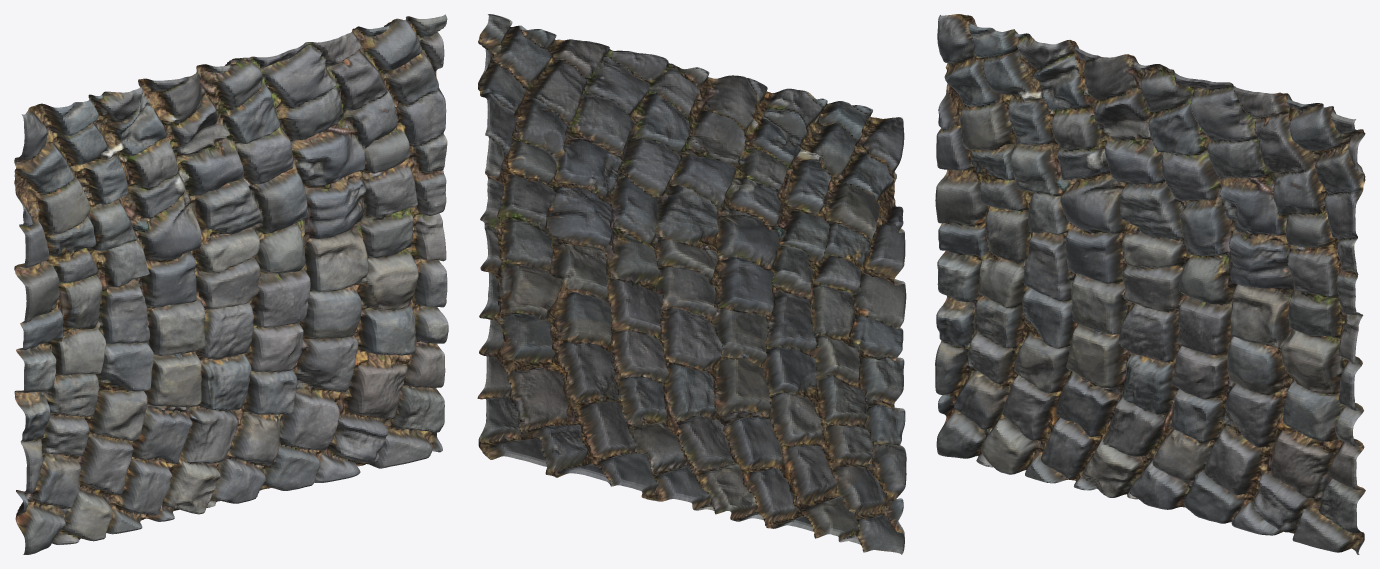
3 views of the same model, side by side, from view 1: azimuth 30°, elevation 25°; view 2: azimuth 150°, elevation 25°; view 3: azimuth 330°, elevation 25° (orthographic).
Visible parts, largest first — view 1: sample_02_2_after_ft; view 2: sample_02_2_after_ft; view 3: sample_02_2_after_ft.
Boxes of the visible parts, x1,y1,x2,y2 form: sample_02_2_after_ft: [14, 14, 448, 554]; sample_02_2_after_ft: [477, 14, 906, 554]; sample_02_2_after_ft: [935, 14, 1365, 554].
Size of the model in its own units: 1 by 1 by 0.06.
Materials: 1 (1 with a texture image).
